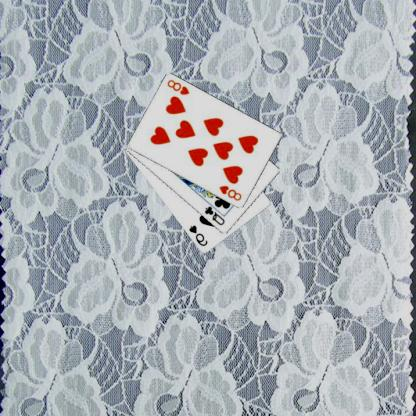6S: (188, 223, 210, 247)
8H: (218, 183, 244, 202), (166, 78, 192, 96)
QC: (203, 204, 228, 228)
